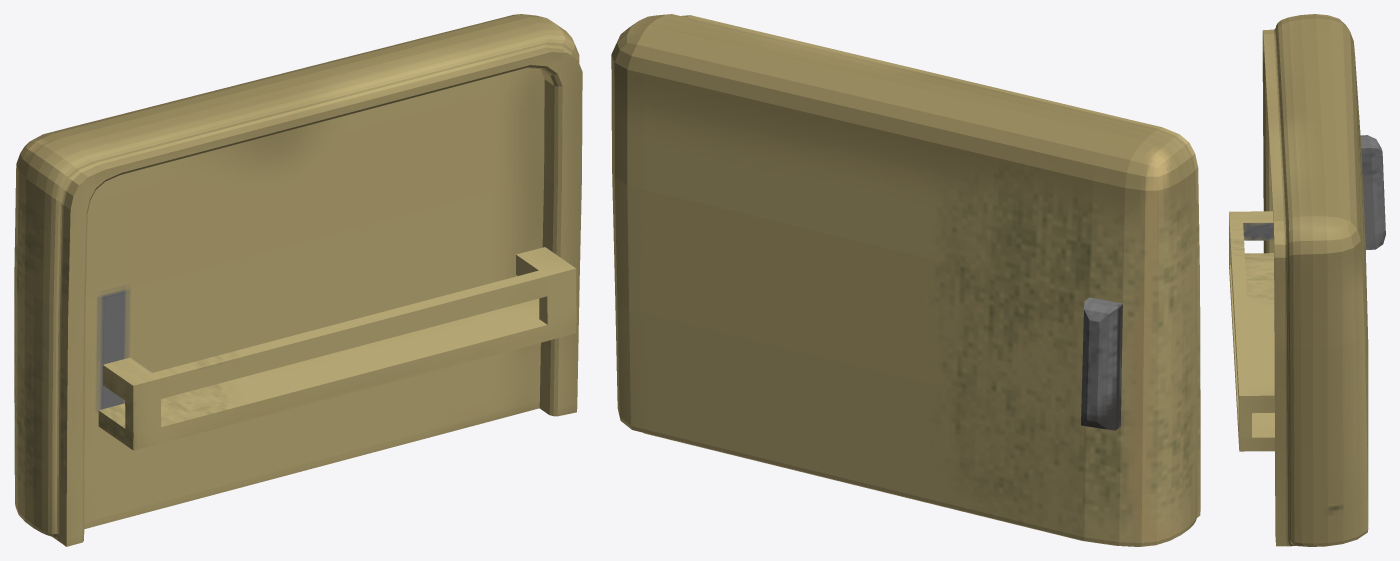
The model's file is Fridge_Freezer_Door_01.fbx.
3 views of the same model, side by side, from view 1: azimuth 30°, elevation 25°; view 2: azimuth 150°, elevation 25°; view 3: azimuth 270°, elevation 25° (orthographic). The views are drawn at different scales.
Visible parts, largest first — view 1: Fridge_Freezer_Door_01; view 2: Fridge_Freezer_Door_01; view 3: Fridge_Freezer_Door_01.
Part boxes in pixels (bbox=[...]): Fridge_Freezer_Door_01: bbox=[14, 14, 582, 546]; Fridge_Freezer_Door_01: bbox=[611, 14, 1200, 546]; Fridge_Freezer_Door_01: bbox=[1229, 14, 1385, 546].
Size of the model in its own units: 8.25 by 5.52 by 2.41.
